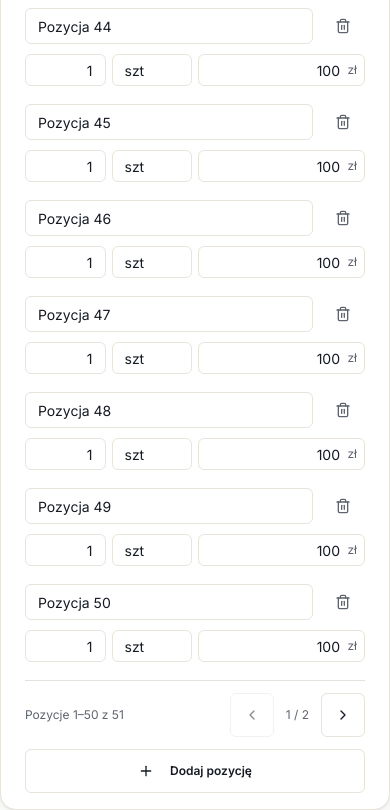
Scenario: WorkspaceLineItems — pagination › next button is disabled on the last page
(page scrolled)
Click the button named "następna strona". click: (343,715)
box: [321,693,365,737]
(page scrolled)
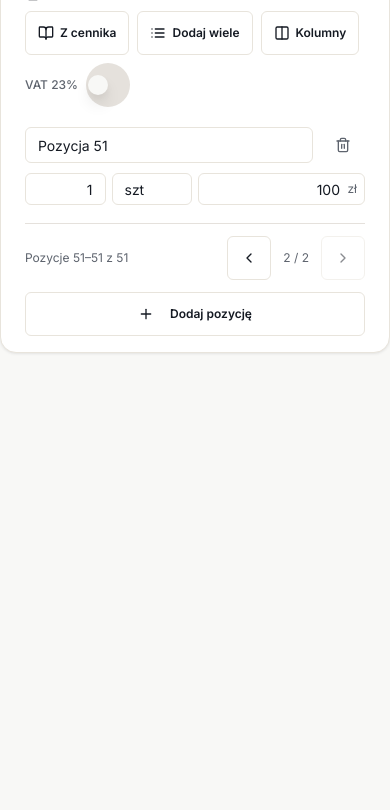
Now the button named "następna strona" is disabled, box [321,236,365,280]
